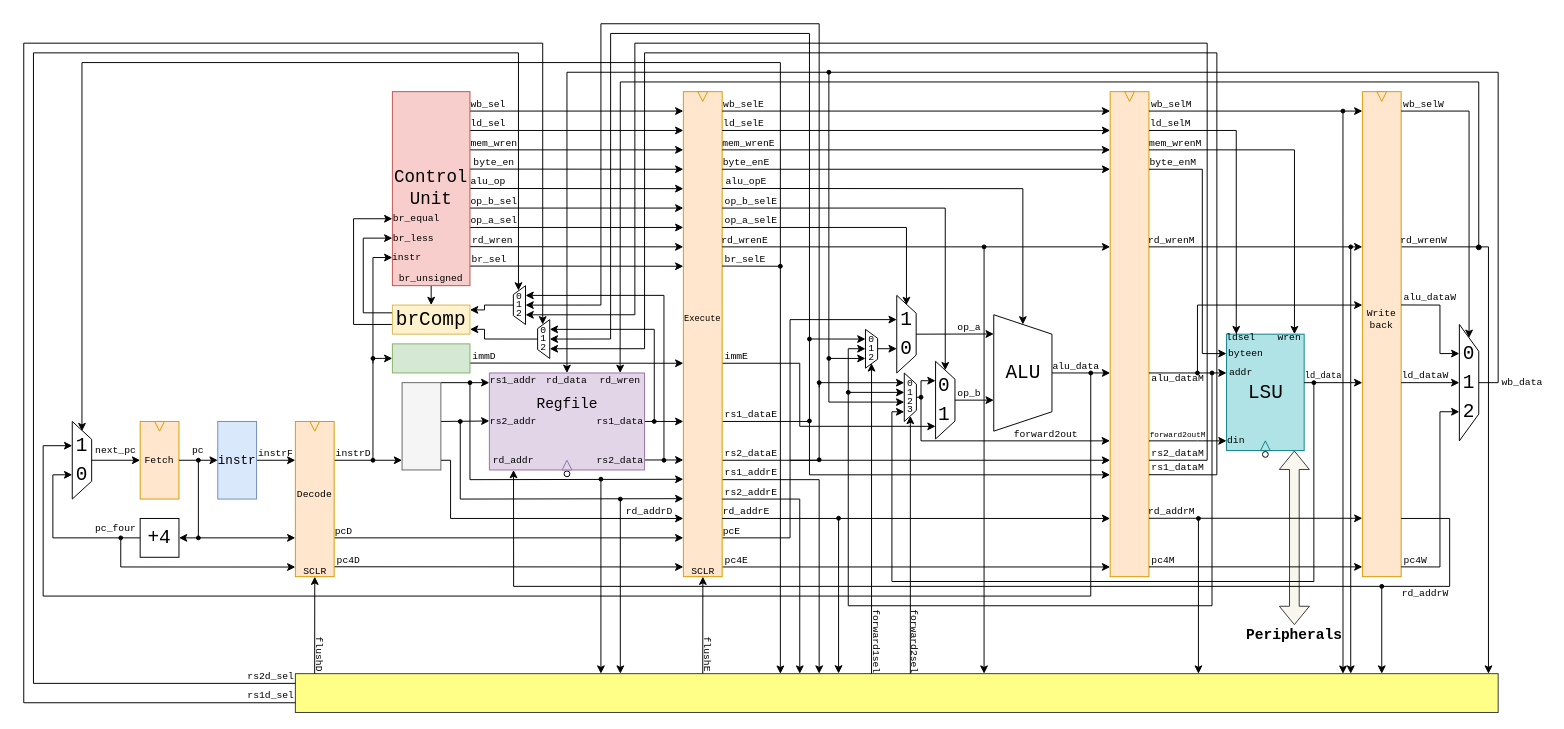
Image size: 1564x729. Some labels were removed from this diagram. Here are the shapes that lost their labels. From the top down, the centre of each, then its label:
At point 1129,334: "Memory".
At point 430,358: "immGen".
At point 421,426: "Reg Dec".
At point 896,692: "Hazard Unit".
